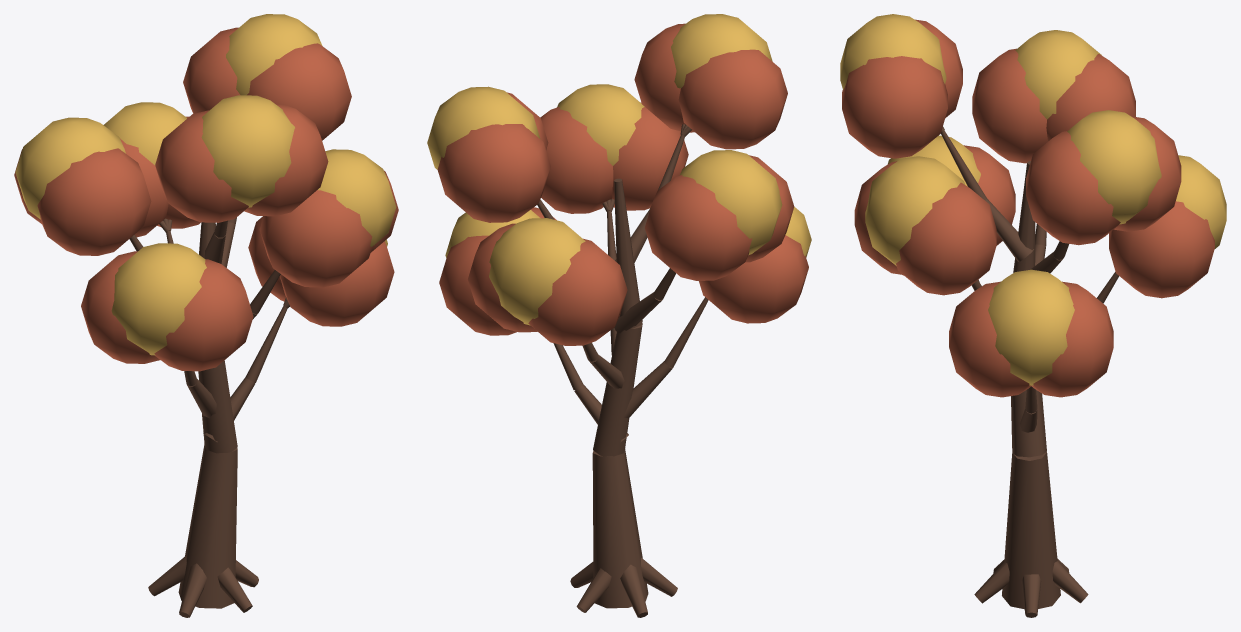
File: almanac-gardens-maple-sapling-22e2c650__22055.glb
3 views of the same model, side by side, from view 1: azimuth 30°, elevation 25°; view 2: azimuth 150°, elevation 25°; view 3: azimuth 270°, elevation 25° (orthographic). The views are drawn at different scales.
Parts seen in each view (by area): view 1: maple-sapling-clay, maple-sapling-gold, maple-sapling-bark; view 2: maple-sapling-clay, maple-sapling-gold, maple-sapling-bark; view 3: maple-sapling-clay, maple-sapling-gold, maple-sapling-bark.
Part boxes in pixels (x1=…): maple-sapling-clay: x1=14, y1=27, x2=398, y2=371; maple-sapling-gold: x1=15, y1=14, x2=396, y2=355; maple-sapling-bark: x1=129, y1=217, x2=289, y2=617; maple-sapling-clay: x1=437, y1=23, x2=808, y2=345; maple-sapling-gold: x1=427, y1=14, x2=811, y2=325; maple-sapling-bark: x1=537, y1=124, x2=708, y2=617; maple-sapling-clay: x1=842, y1=19, x2=1214, y2=397; maple-sapling-gold: x1=840, y1=14, x2=1226, y2=385; maple-sapling-bark: x1=941, y1=127, x2=1118, y2=617.
Bounding box in the file's own units: 1.28 × 1.96 × 1.22.
